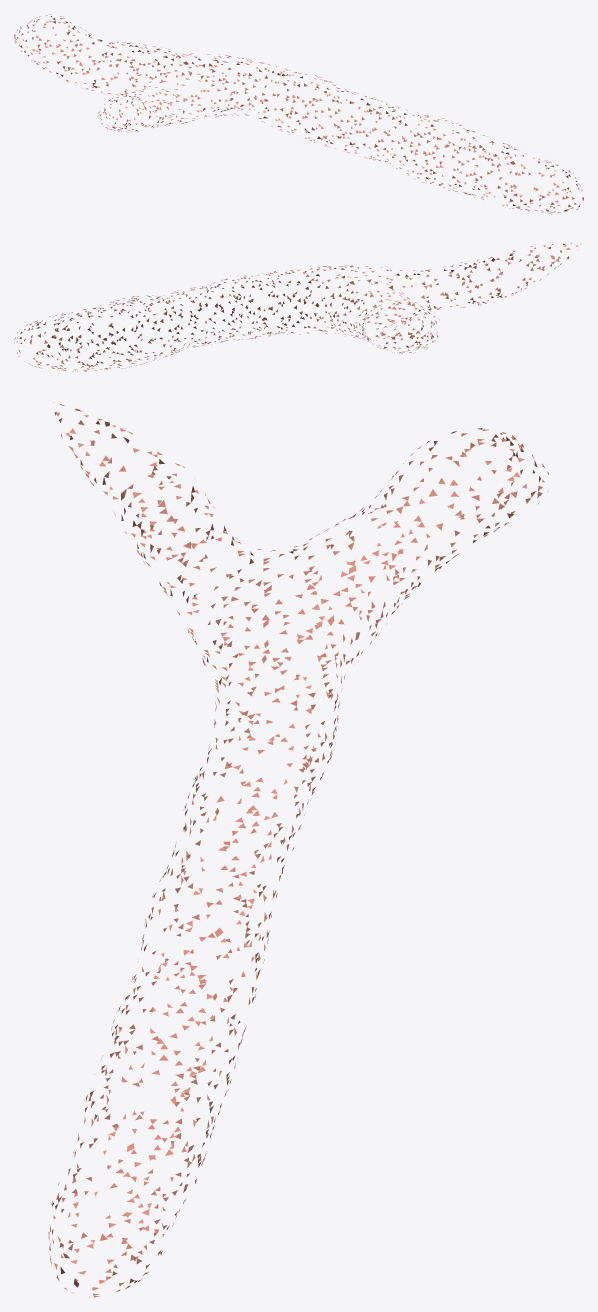
File: morph_002.glb
3 views of the same model, one above another, from view 1: azimuth 30°, elevation 25°; view 2: azimuth 150°, elevation 25°; view 3: azimuth 270°, elevation 25° (orthographic). The views are drawn at different scales.
Bounding box in the file's own units: 104 × 44.69 × 45.77.
